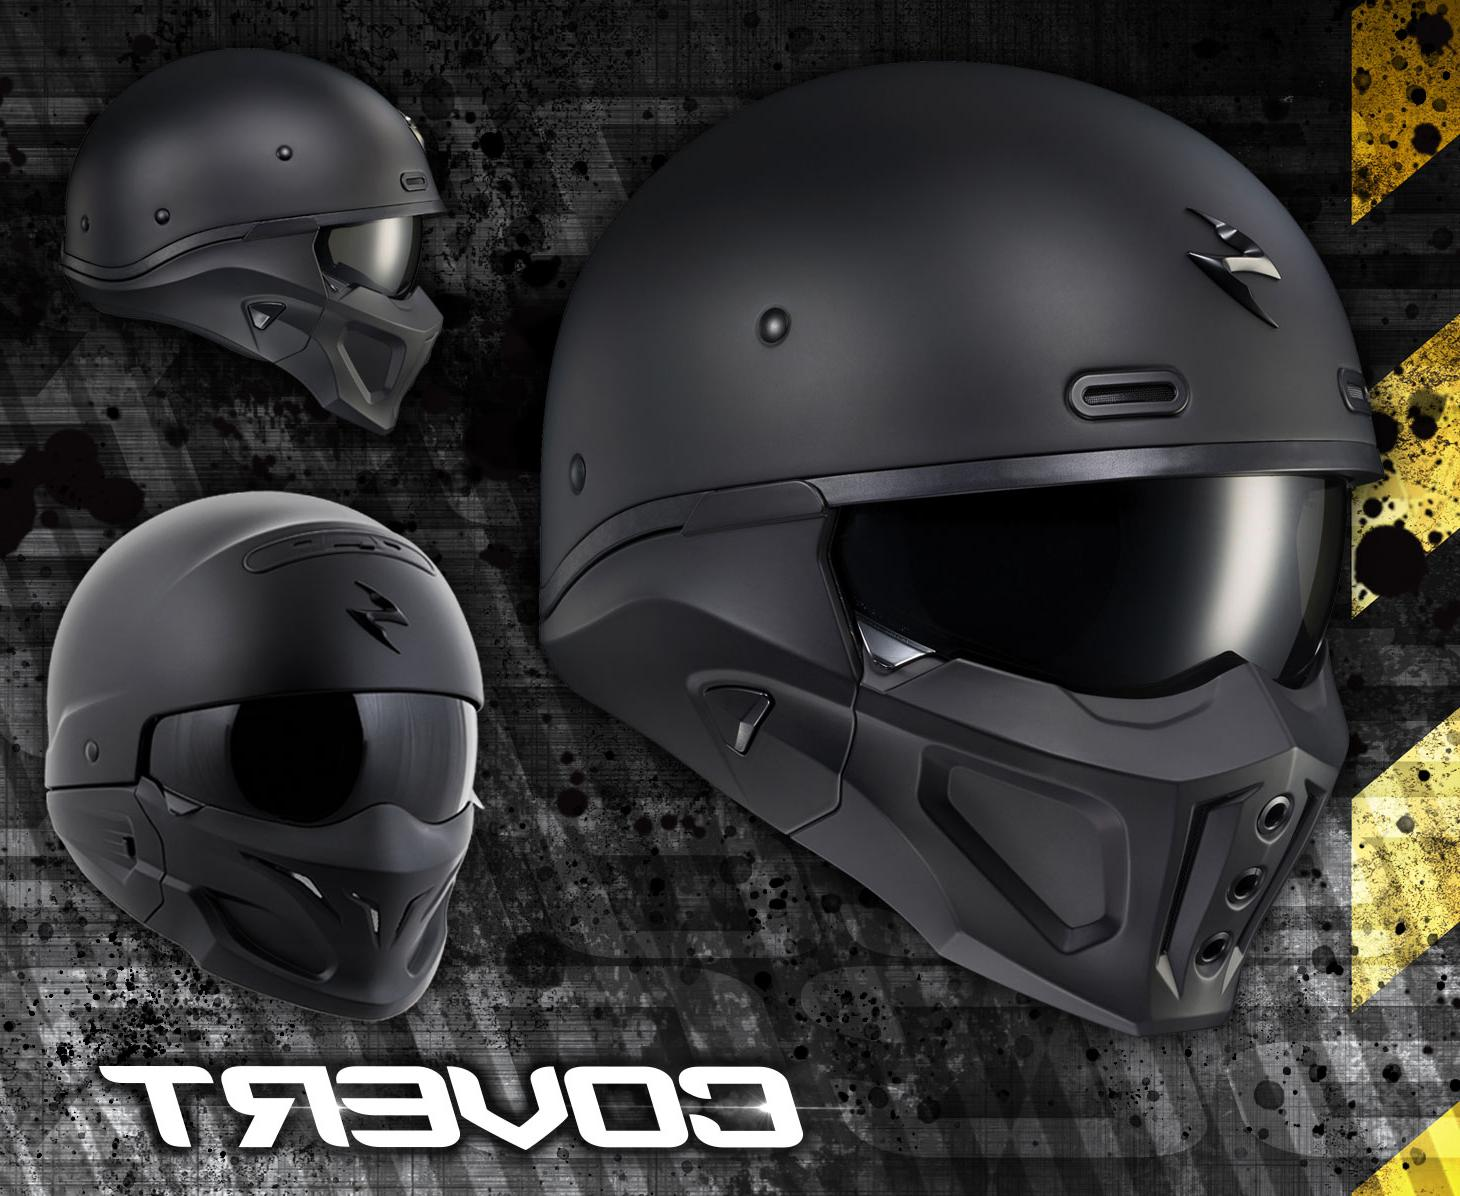Helmet: (532, 59, 1388, 1042)
